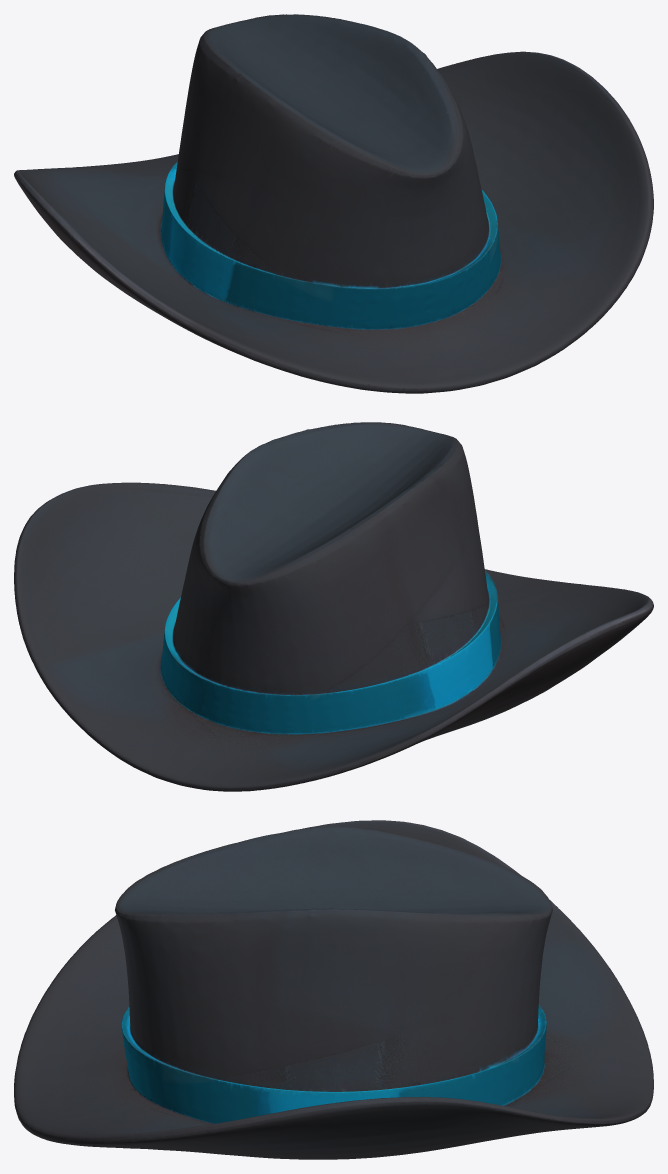
The model's file is meshy_019e1821-63cc-7bd1-be78-fb4f8365385a.glb.
3 renders of one model, top to bottom at view 1: azimuth 30°, elevation 25°; view 2: azimuth 150°, elevation 25°; view 3: azimuth 270°, elevation 25°, orthographic. The views are drawn at different scales.
Bounding box in the file's own units: 1.9 × 0.7116 × 1.8.
1 material, 1 textured.
